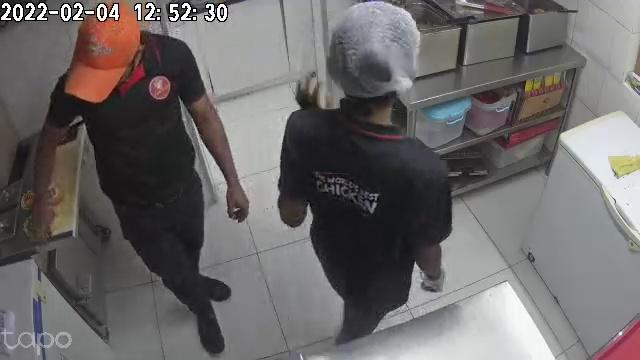no_gloves: (225, 167, 248, 221)
